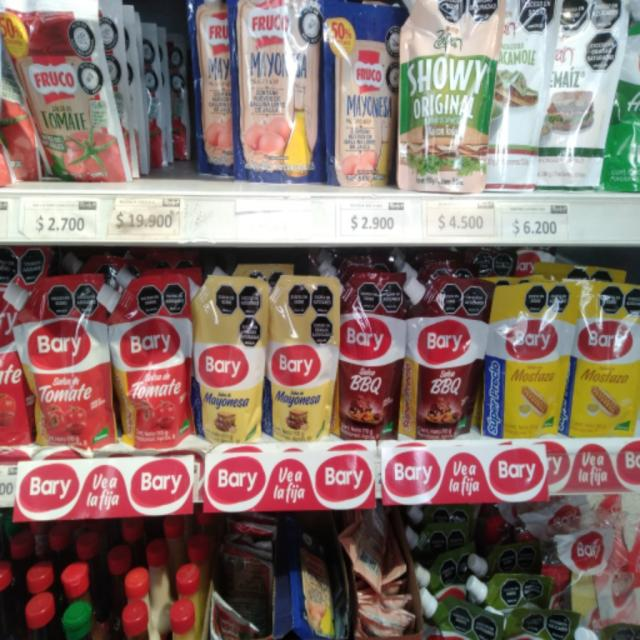BBQ: (409, 279, 491, 438), (340, 278, 407, 443)
Mayonesa: (190, 274, 270, 449), (271, 274, 335, 444)
Tomate: (12, 275, 112, 450), (108, 277, 194, 439)
moztasa: (496, 275, 575, 439), (573, 275, 640, 435)
